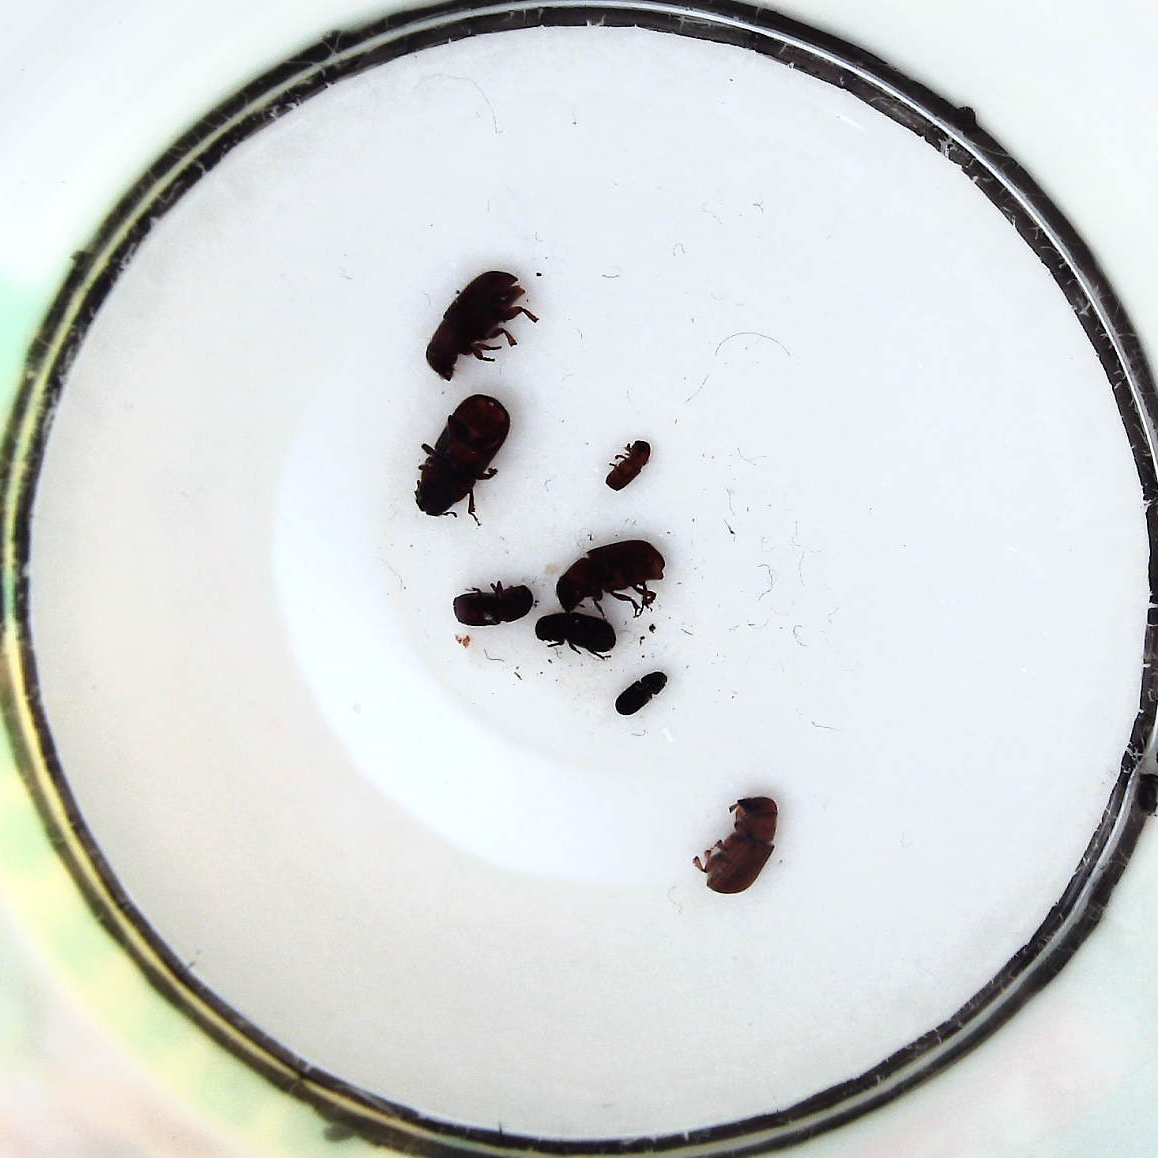Leconte: (413, 394, 513, 527), (423, 271, 543, 383), (689, 786, 782, 898), (554, 537, 672, 616)
Linnaeus: (449, 578, 536, 626)
acuminatus: (603, 434, 657, 493)
armandi: (533, 608, 618, 662)
coleoptera: (610, 667, 671, 722)
